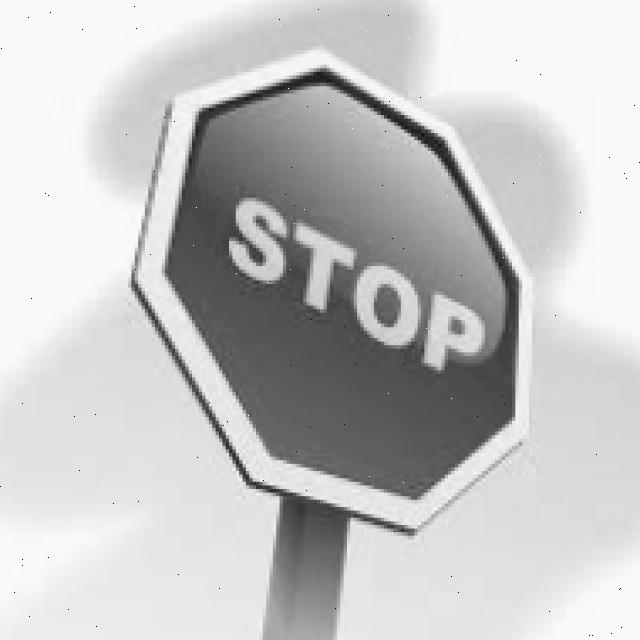Stop-signs: (133, 47, 535, 527)
